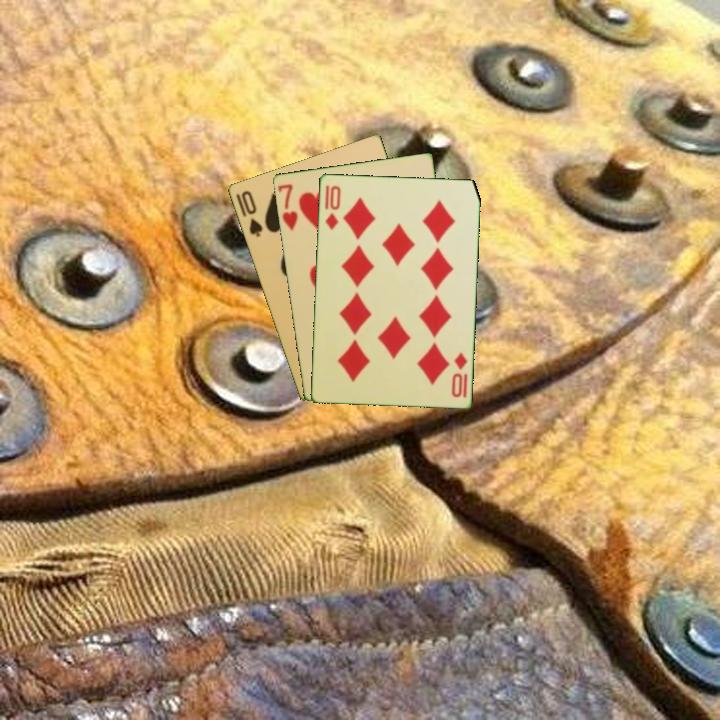10d: (448, 349, 470, 400), (321, 182, 343, 232)
10s: (237, 187, 265, 240)
7h: (274, 180, 301, 234)
